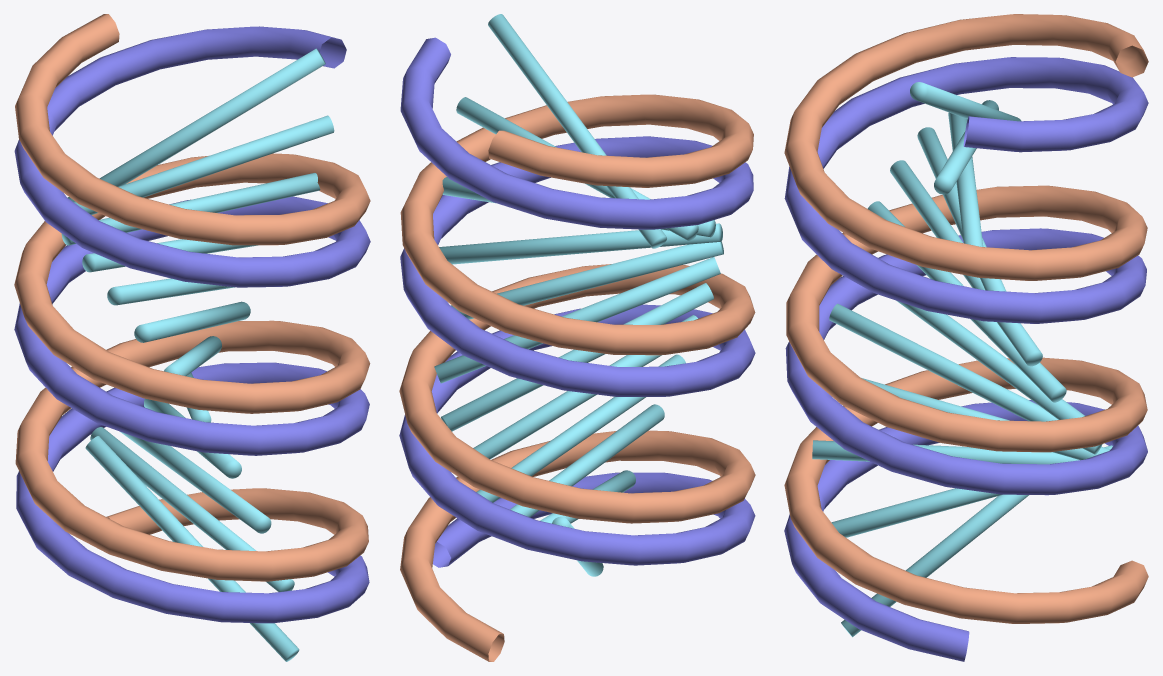
File: dna_double_helix.glb
3 views of the same model, side by side, from view 1: azimuth 30°, elevation 25°; view 2: azimuth 150°, elevation 25°; view 3: azimuth 270°, elevation 25° (orthographic). The views are drawn at different scales.
Visible parts, largest first — view 1: strand2, strand1, base_11, base_10, base_0, base_1, base_2, base_9, base_6, base_7, base_8, base_5 (+1 smaller); view 2: strand2, strand1, base_8, base_7, base_6, base_11, base_5, base_3, base_4, base_2, base_10, base_9 (+1 smaller); view 3: strand2, strand1, base_4, base_5, base_7, base_1, base_0, base_6, base_2, base_9, base_11, base_8 (+2 smaller).
Part boxes in pixels (x1,y1,x2,y2): strand2: (14, 14, 370, 581); strand1: (14, 26, 370, 623); base_11: (67, 48, 325, 201); base_10: (73, 115, 334, 214); base_0: (85, 436, 299, 661); base_1: (90, 427, 294, 591); base_2: (120, 431, 271, 533); base_9: (61, 173, 320, 245); base_6: (134, 301, 250, 342); base_7: (107, 278, 234, 305); base_8: (82, 239, 257, 272); base_5: (164, 336, 221, 375); strand2: (399, 94, 755, 661); strand1: (399, 37, 755, 567); base_8: (439, 223, 722, 264); base_7: (451, 241, 723, 319); base_6: (434, 257, 720, 383); base_11: (488, 14, 666, 248); base_5: (441, 283, 713, 431); base_3: (476, 354, 685, 502); base_4: (473, 315, 697, 459); base_2: (510, 404, 664, 517); base_10: (456, 97, 698, 241); base_9: (442, 177, 715, 237); strand2: (784, 14, 1148, 623); strand1: (784, 57, 1148, 661); base_4: (829, 303, 1102, 454); base_5: (896, 300, 1084, 419); base_7: (890, 160, 1042, 366); base_1: (831, 445, 1112, 537); base_0: (841, 494, 1028, 637); base_6: (867, 201, 1066, 402); base_2: (812, 440, 1079, 464); base_9: (948, 112, 983, 246); base_11: (910, 82, 1021, 121); base_8: (917, 127, 1006, 291).
Size of the model in its own units: 0.7699 by 1.36 by 0.7699.
